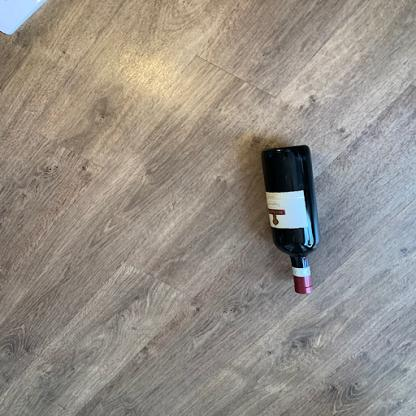trash: (260, 145, 314, 297)
